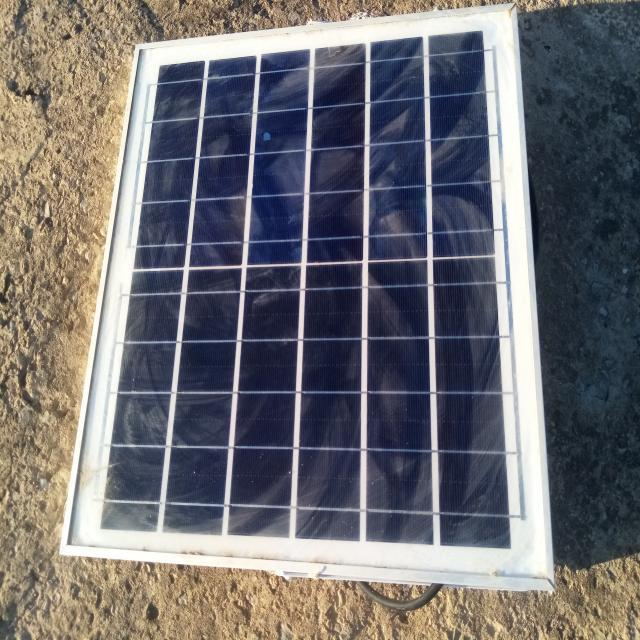faulty: (62, 8, 554, 585)
